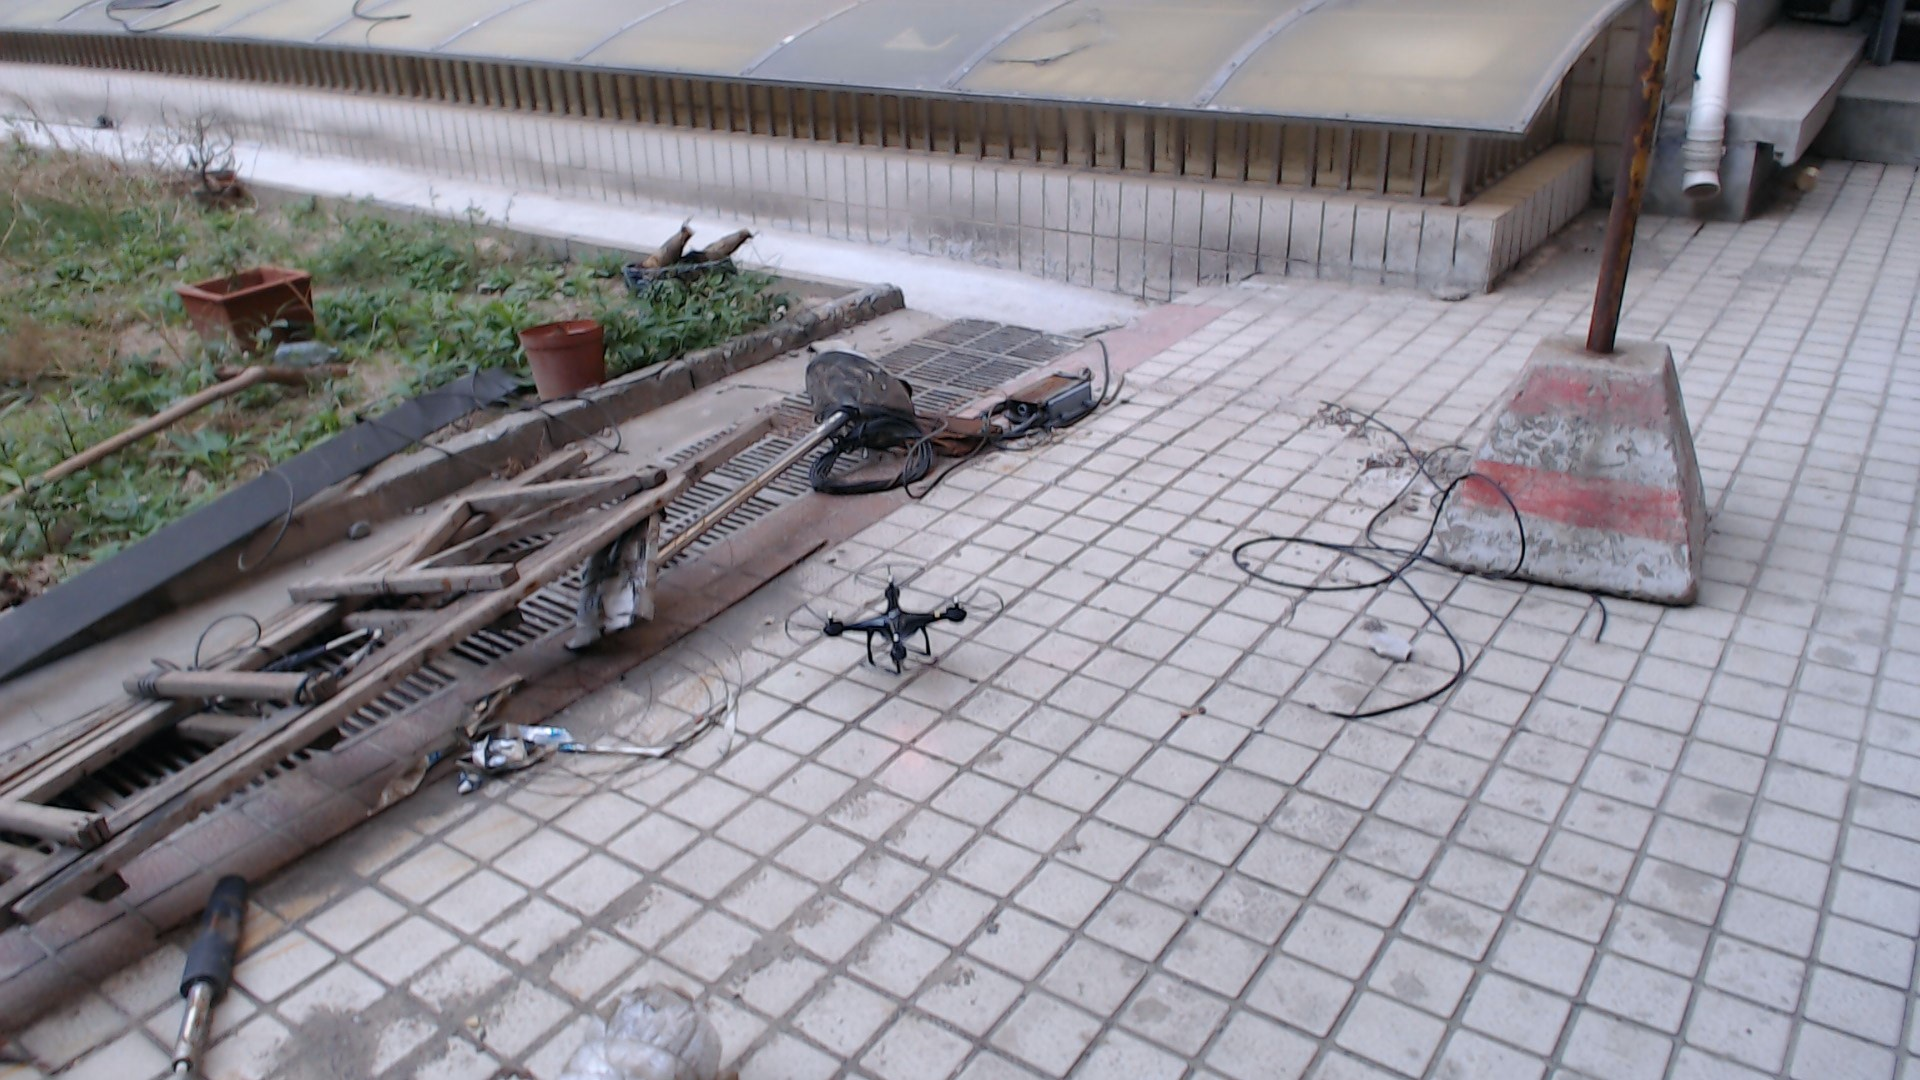drone: (723, 538, 1038, 707)
